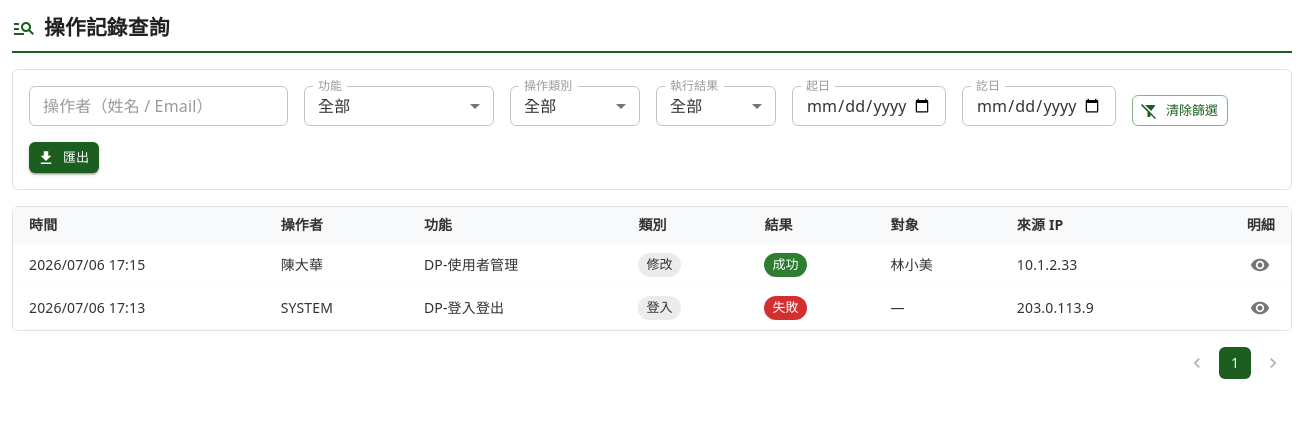
Test: AuditPage 篩選選項來自後端（#477） › 操作類別含「匯出」——#322 導入後下拉有、後端值域沒有，選了會 422
Expected: the text "成功" is shown, [772,255,799,273]
Click the dropdown named "操作類別" at (540, 106), box [524,95,556,117]
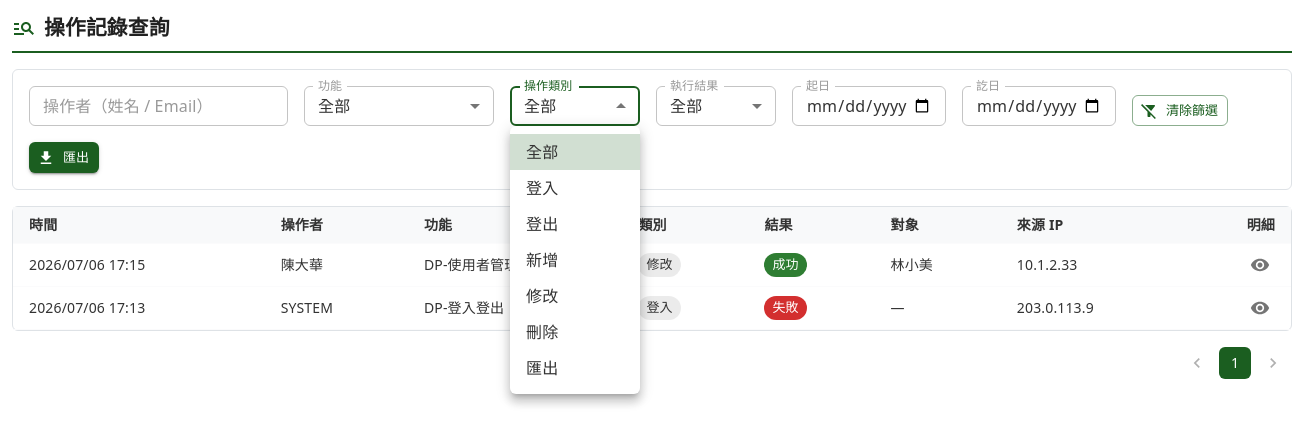
Result: the option "匯出" is shown at [526,357,558,379]
